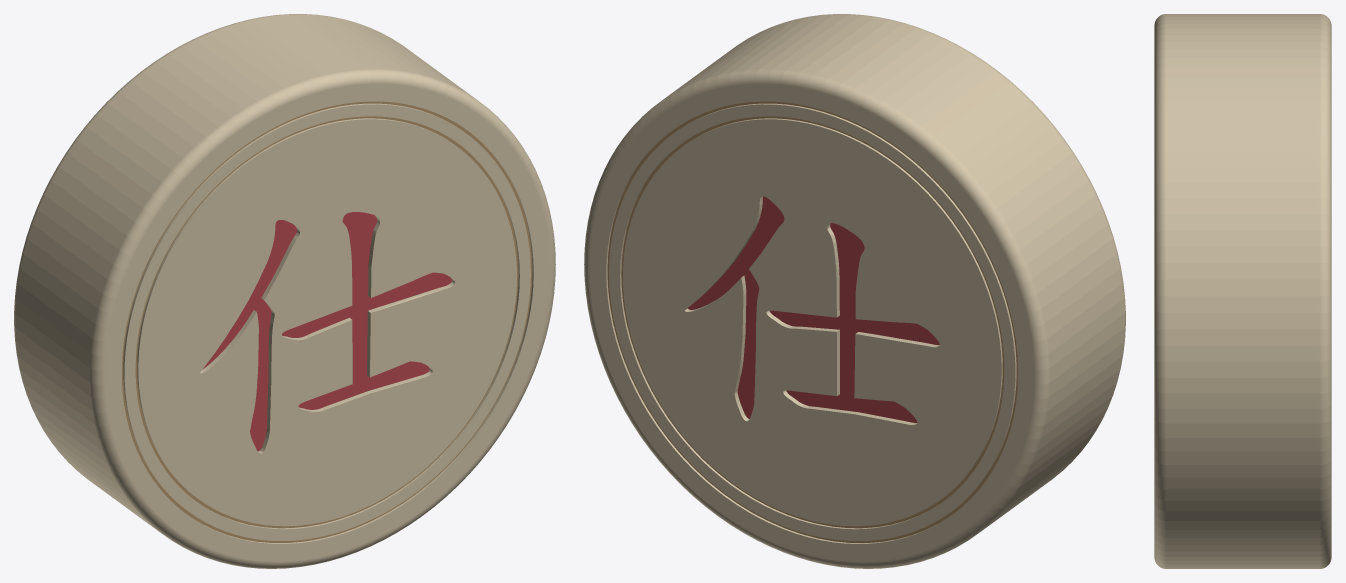
3 views of the same model, side by side, from view 1: azimuth 30°, elevation 25°; view 2: azimuth 150°, elevation 25°; view 3: azimuth 270°, elevation 25° (orthographic). The views are drawn at different scales.
Visible parts, largest first — view 1: wood, engraved_letters, engraved_border; view 2: wood, engraved_letters, engraved_border; view 3: wood.
Part boxes in pixels (x1,y1,x2,y2): wood: [14, 14, 555, 568]; engraved_letters: [202, 212, 452, 451]; engraved_border: [122, 101, 532, 542]; wood: [584, 14, 1125, 568]; engraved_letters: [687, 196, 939, 422]; engraved_border: [607, 101, 1017, 542]; wood: [1154, 14, 1331, 568].
Size of the model in its own units: 0.047 by 0.047 by 0.015.
